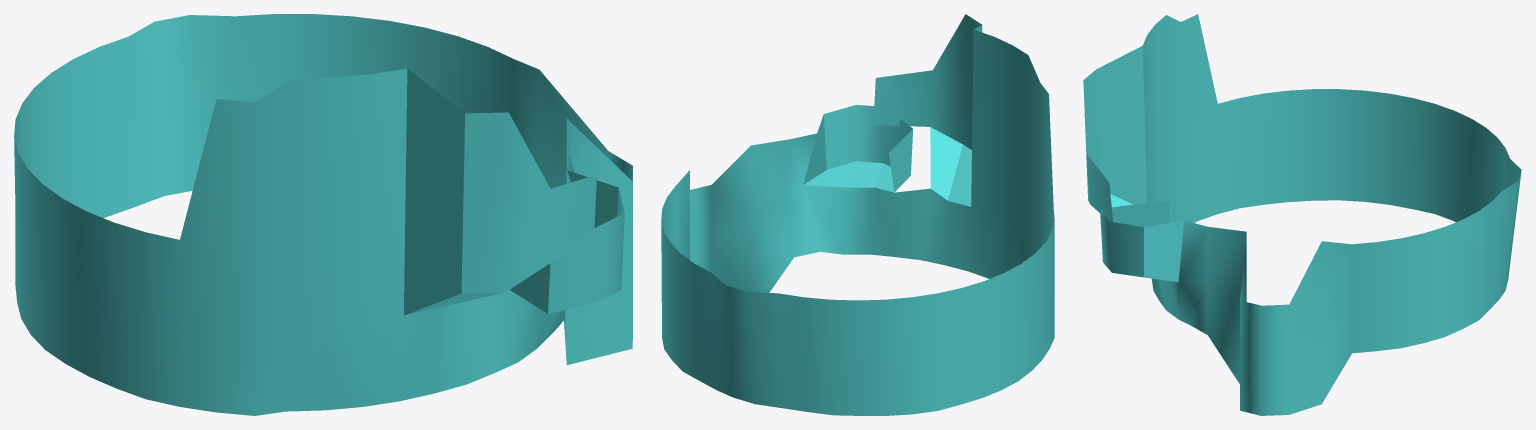
Rendered from InselMauer.fbx.
3 views of the same model, side by side, from view 1: azimuth 30°, elevation 25°; view 2: azimuth 150°, elevation 25°; view 3: azimuth 270°, elevation 25° (orthographic). The views are drawn at different scales.
Parts seen in each view (by area): view 1: pCylinder32; view 2: pCylinder32; view 3: pCylinder32.
Boxes of the visible parts, box(x1,y1,x2,y2) form: pCylinder32: box(14, 14, 632, 415); pCylinder32: box(661, 14, 1054, 415); pCylinder32: box(1083, 14, 1521, 415).
Size of the model in its own units: 368 by 273 by 398.
